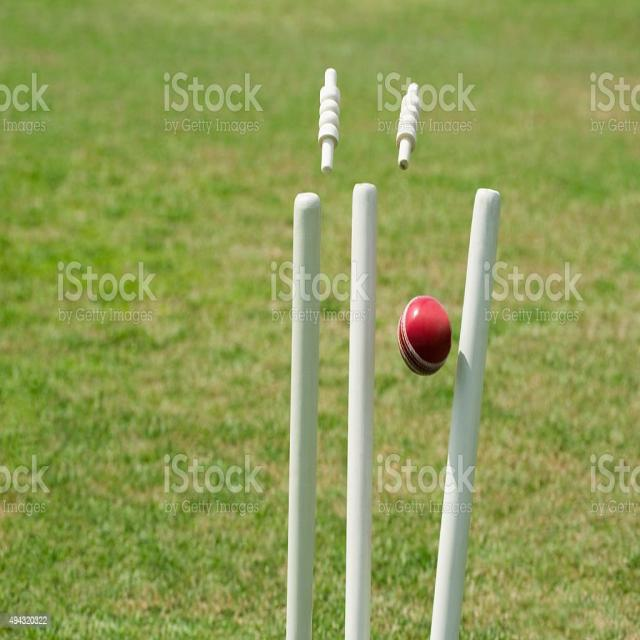ball: (397, 284, 458, 380)
stump: (291, 66, 502, 639)
